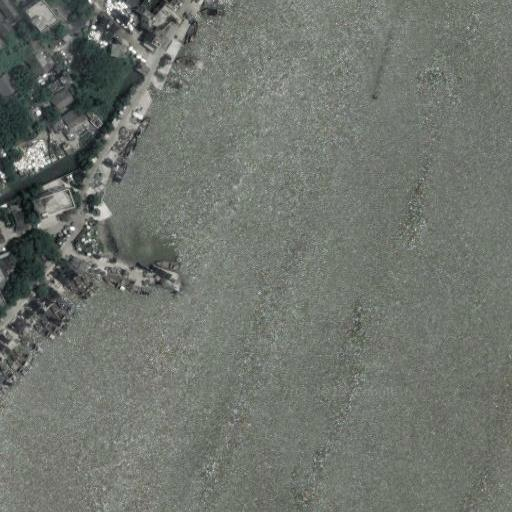building: (143, 4, 184, 37), (32, 188, 75, 217), (25, 0, 58, 33), (81, 19, 110, 47), (8, 202, 31, 231), (49, 88, 73, 110), (0, 72, 17, 98), (67, 113, 88, 133), (151, 33, 173, 52), (24, 55, 43, 76), (61, 109, 77, 124), (110, 44, 127, 57), (142, 0, 161, 11), (34, 51, 47, 66), (0, 12, 7, 35), (62, 34, 71, 43)
